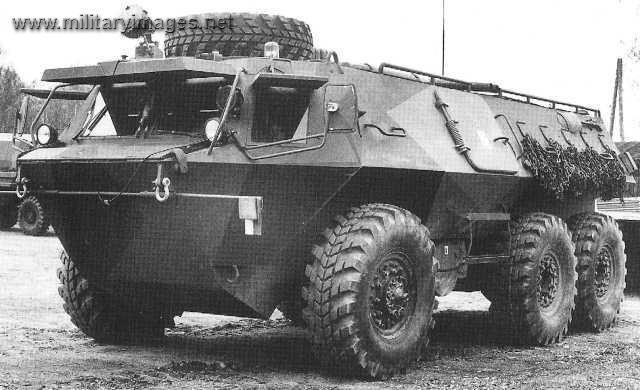MIL_IFV: (18, 14, 633, 383)
